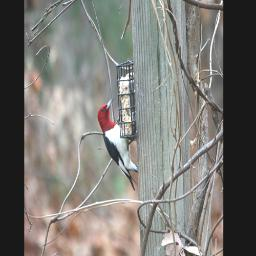Woodpecker: (94, 94, 142, 194)
